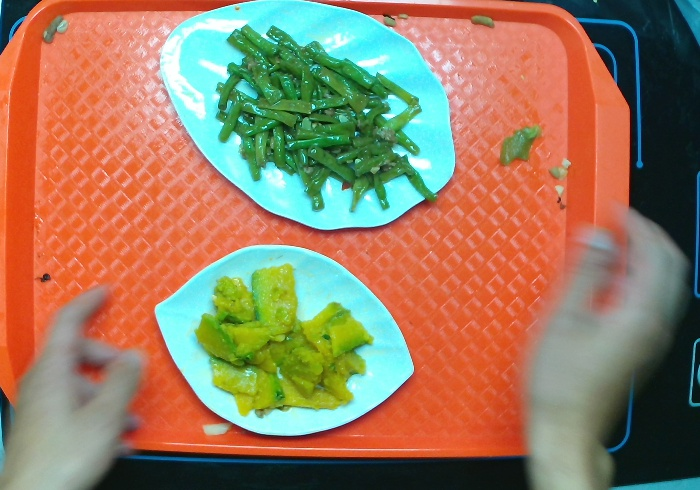RJxy-Bai_Ye_Pan: (157, 1, 457, 231)
RJxy-Da_Du_Pan: (153, 242, 416, 438)
